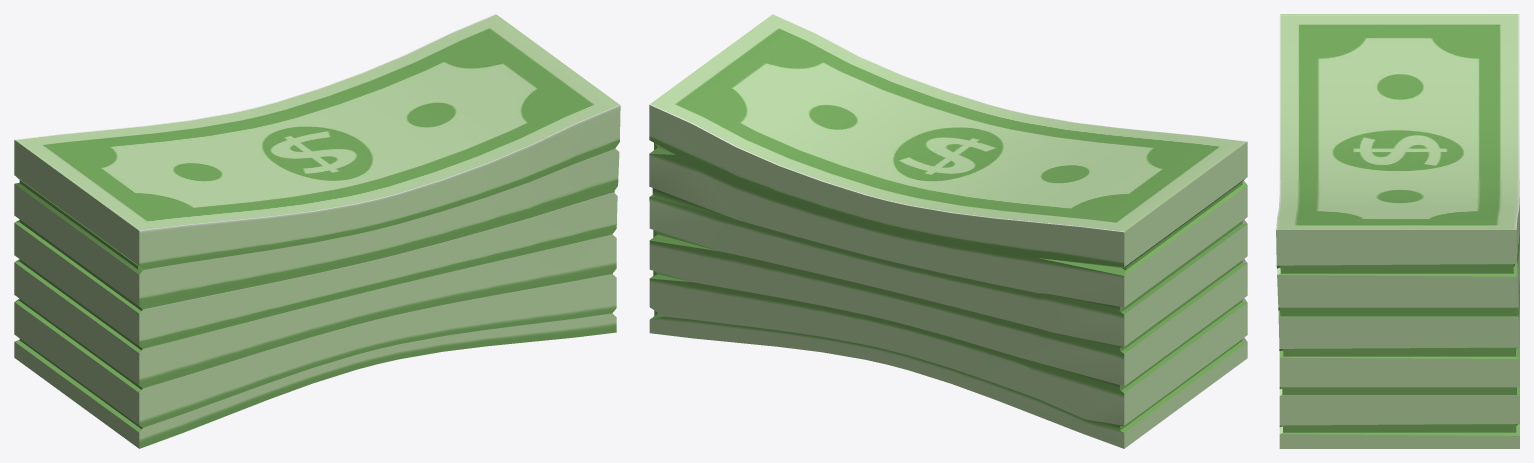
The model's file is money.fbx.
3 views of the same model, side by side, from view 1: azimuth 30°, elevation 25°; view 2: azimuth 150°, elevation 25°; view 3: azimuth 270°, elevation 25° (orthographic). The views are drawn at different scales.
Visible parts, largest first — view 1: Cube; view 2: Cube; view 3: Cube.
Boxes of the visible parts, x1,y1,x2,y2 form: Cube: (14,14,620,448); Cube: (649,14,1247,448); Cube: (1276,14,1519,448).
Size of the model in its own units: 444 by 202 by 203.
